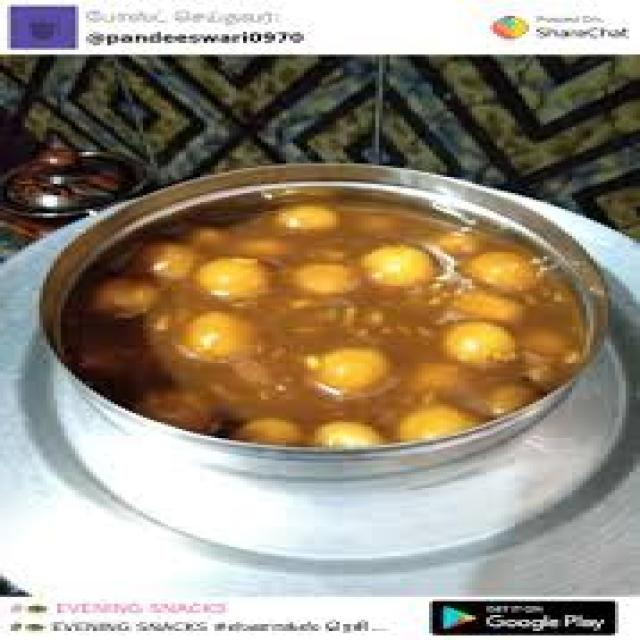paal kolukattai: (67, 197, 573, 455)
